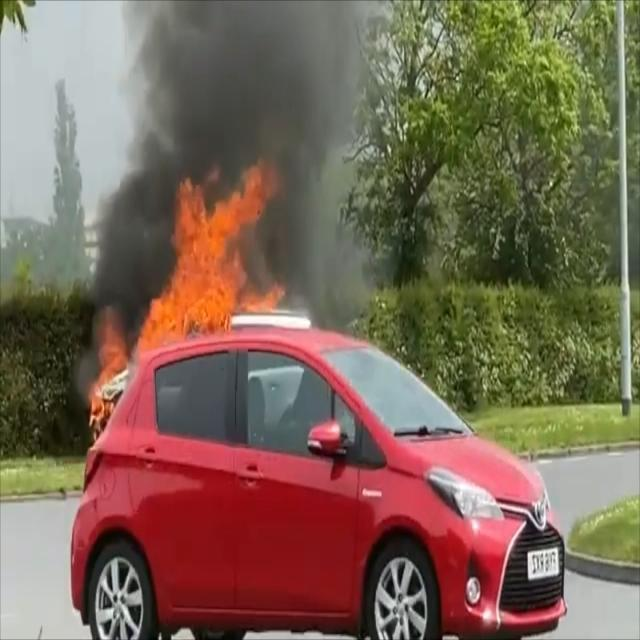fire: (134, 150, 284, 350), (78, 294, 131, 429)
